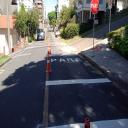Pare: (91, 0, 99, 14)
